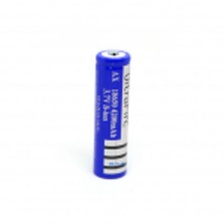battery: (89, 45, 133, 182)
